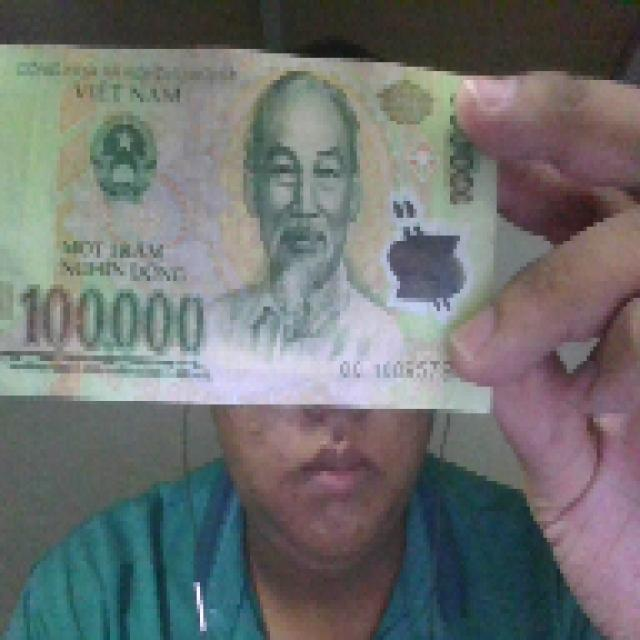100 000 VND: (1, 36, 507, 413)
